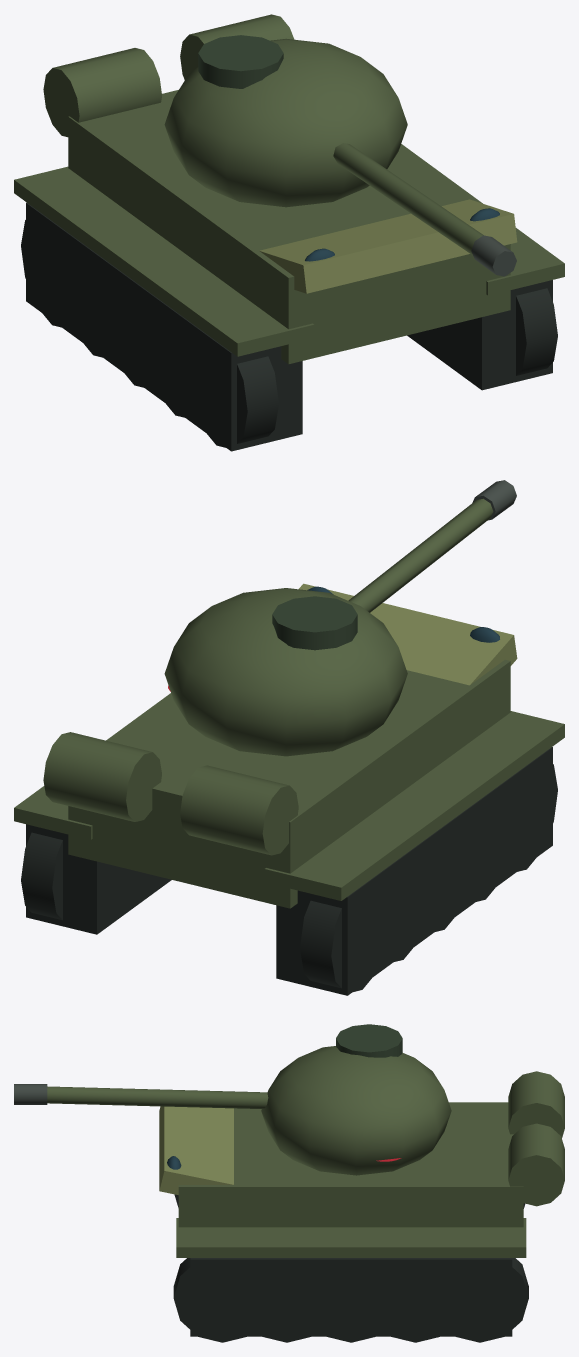
3 renders of one model, top to bottom at view 1: azimuth 30°, elevation 25°; view 2: azimuth 150°, elevation 25°; view 3: azimuth 270°, elevation 25°, orthographic. The views are drawn at different scales.
Visible parts, largest first — view 1: vietnam-T; view 2: vietnam-T; view 3: vietnam-T.
Boxes of the visible parts, left/top/right/bottom form: vietnam-T: left=14, top=14, right=564, bottom=451; vietnam-T: left=14, top=480, right=564, bottom=995; vietnam-T: left=14, top=1024, right=564, bottom=1342.
Bounding box in the file's own units: 1.15 × 0.99 × 2.14.
